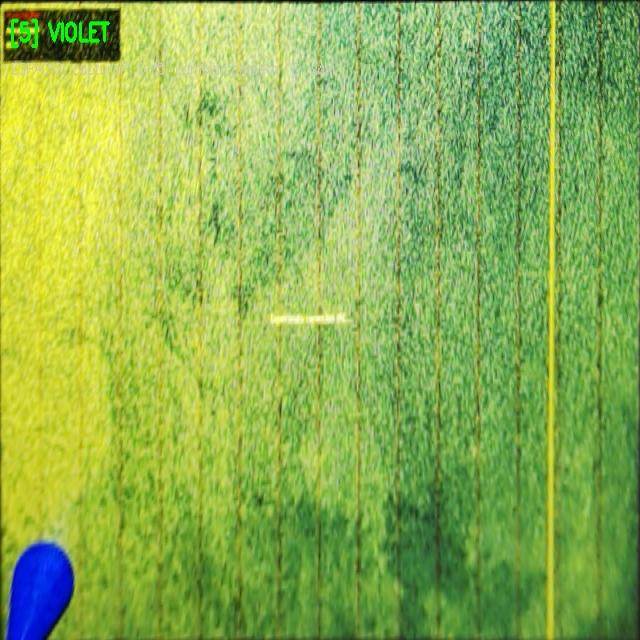violet: (5, 543, 73, 639)
